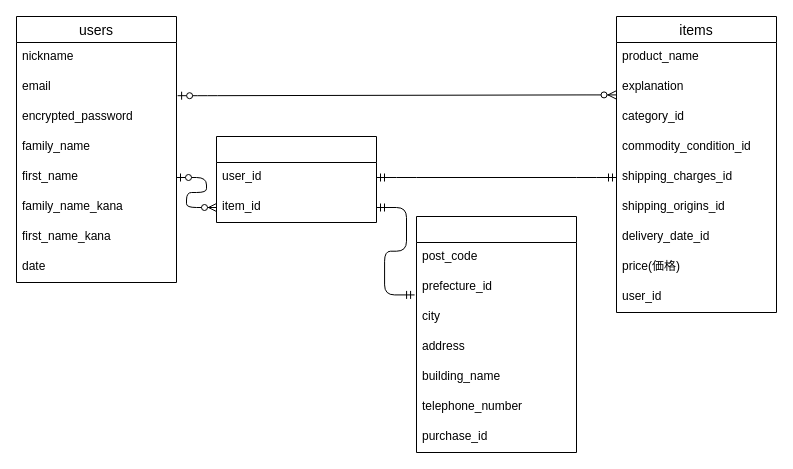
Image size: 793x469. Some labels were removed from this diagram. Here are the shapes that lost their labels. From the top down, the box of each, then its label:
(216, 136, 376, 222): purchases(購入)
(416, 216, 576, 452): deliveries(配送先住所)
